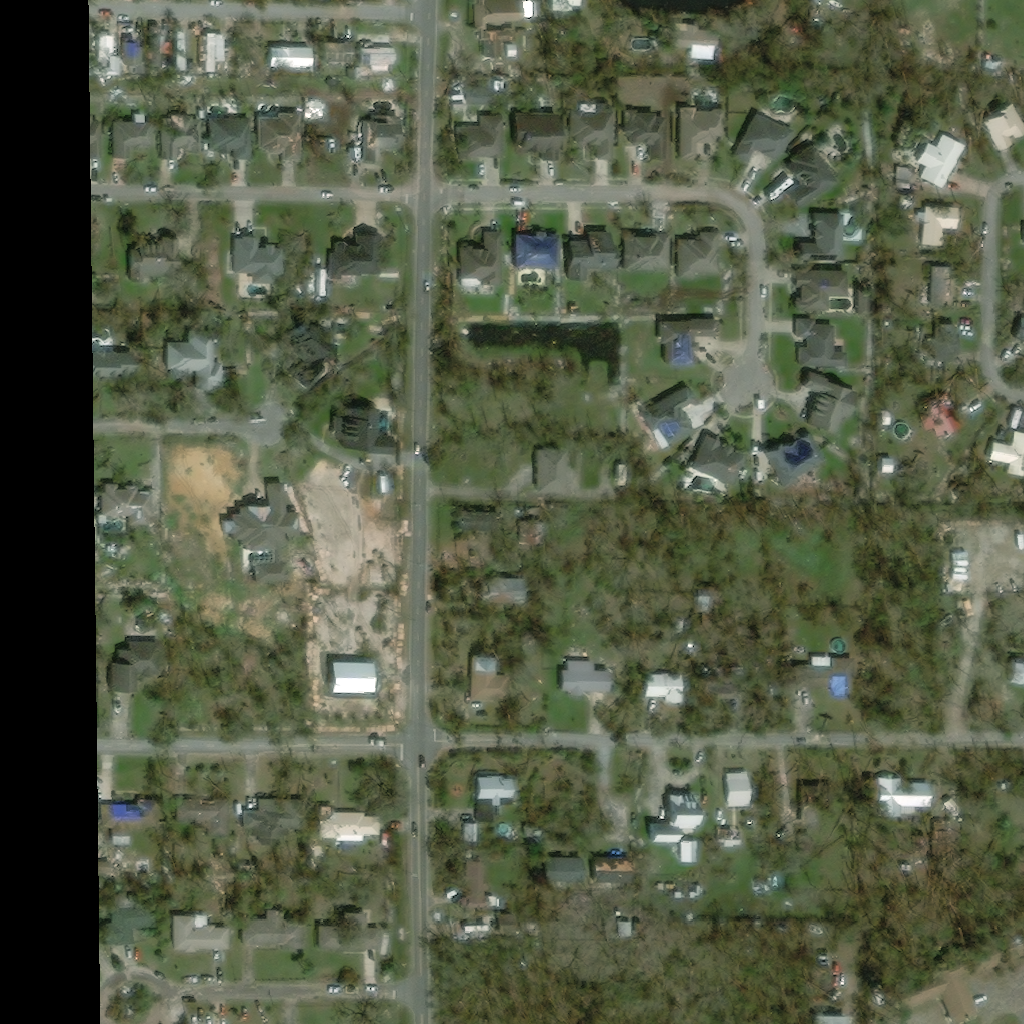major_damage: (130, 41, 153, 70)
minor_damage: (647, 380, 720, 452), (242, 483, 310, 554), (103, 793, 168, 845), (773, 436, 836, 489), (574, 233, 631, 282), (803, 659, 865, 703), (265, 111, 311, 162), (928, 394, 975, 442), (167, 116, 212, 163), (367, 114, 411, 161), (198, 23, 234, 79), (522, 231, 570, 268), (927, 267, 968, 308), (368, 34, 406, 77), (600, 857, 641, 886), (330, 43, 363, 69), (725, 830, 751, 852), (106, 32, 129, 54)
no_damage: (902, 932, 1024, 1024), (268, 311, 351, 395), (808, 374, 865, 437), (478, 0, 533, 65), (518, 113, 574, 175), (338, 406, 406, 456), (228, 236, 291, 289), (797, 143, 847, 209), (740, 115, 804, 166), (665, 320, 731, 369), (920, 134, 976, 191), (250, 800, 316, 848), (108, 892, 163, 949), (184, 332, 232, 396), (701, 435, 755, 491), (115, 641, 170, 693), (657, 794, 711, 846), (108, 485, 169, 531), (577, 102, 624, 161), (326, 805, 390, 846), (327, 914, 388, 957), (803, 319, 856, 368), (687, 107, 734, 162), (334, 233, 390, 278), (684, 233, 735, 282), (135, 235, 187, 283), (630, 109, 676, 162), (803, 270, 861, 312), (249, 912, 311, 951), (185, 795, 238, 840), (472, 230, 511, 289), (181, 915, 238, 954), (892, 777, 944, 818), (815, 211, 854, 265), (542, 449, 583, 500), (923, 205, 969, 250), (119, 115, 162, 162), (485, 777, 525, 827), (568, 662, 622, 699), (217, 119, 261, 164), (682, 19, 725, 64), (631, 233, 680, 272), (989, 104, 1024, 157), (806, 785, 849, 826), (478, 659, 518, 703), (98, 348, 148, 382), (469, 118, 510, 159), (655, 675, 691, 710), (562, 853, 600, 884), (998, 433, 1024, 477), (277, 48, 323, 69), (734, 774, 760, 811), (94, 115, 109, 170), (95, 58, 129, 80), (473, 86, 508, 105), (179, 31, 195, 71), (468, 513, 503, 531), (925, 19, 946, 42), (514, 578, 537, 597), (163, 33, 177, 64), (865, 293, 883, 316), (689, 843, 706, 865), (625, 467, 640, 489), (888, 459, 905, 478), (832, 1014, 858, 1024), (698, 888, 713, 902), (993, 54, 1008, 68), (563, 0, 592, 7), (775, 879, 788, 893), (1017, 663, 1024, 688), (660, 887, 676, 894), (683, 893, 695, 902), (458, 106, 472, 112)
